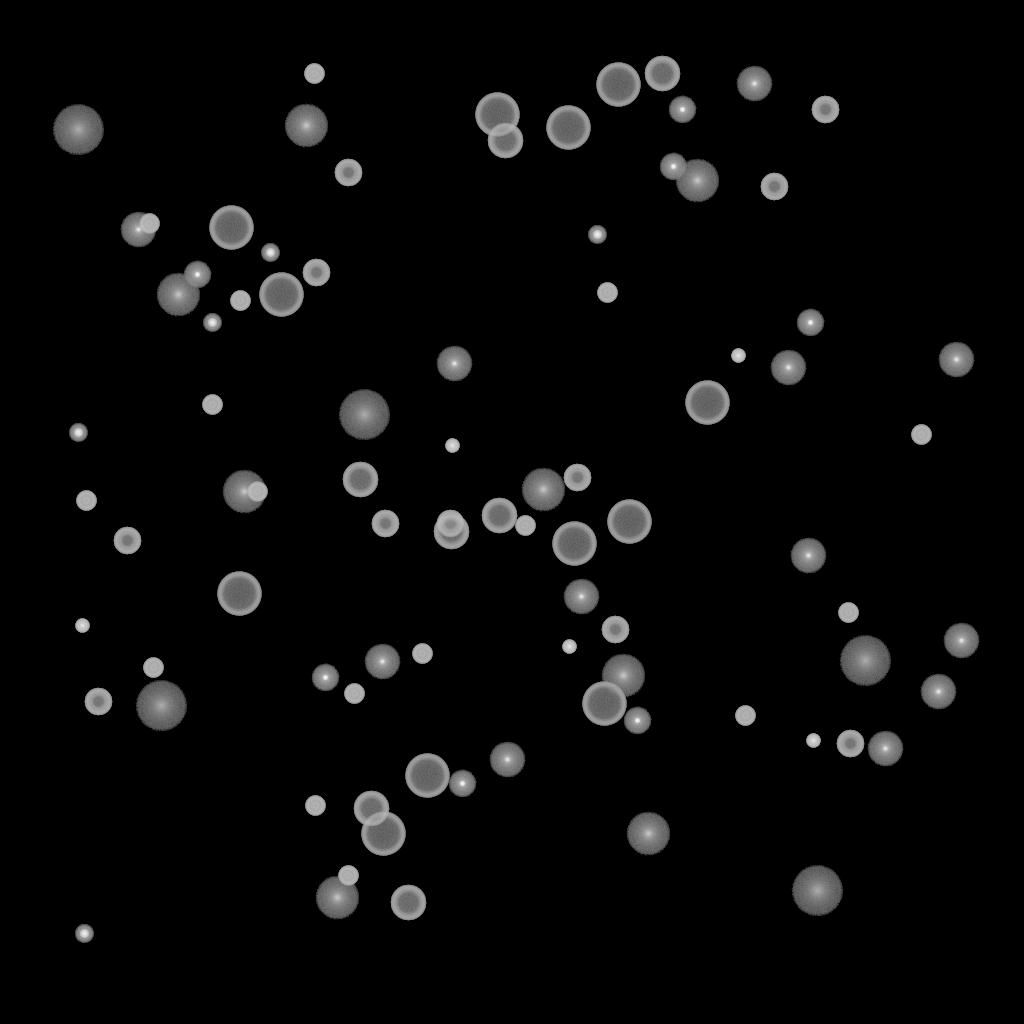depth:-10: (448, 770, 476, 798), (183, 261, 211, 289), (623, 707, 651, 735), (659, 153, 687, 181), (668, 96, 696, 124), (796, 309, 824, 337), (311, 664, 339, 692)
depth:-20: (75, 925, 93, 943), (69, 424, 87, 442), (261, 244, 279, 262), (588, 226, 606, 244), (203, 314, 221, 332)
depth:-30: (75, 619, 89, 633), (562, 640, 576, 654), (445, 439, 459, 453), (806, 734, 820, 748), (731, 349, 745, 363)
depth:-40: (304, 64, 324, 84), (838, 603, 858, 623), (143, 658, 163, 678), (412, 644, 432, 664), (202, 395, 222, 415), (139, 214, 159, 234), (76, 491, 96, 511), (515, 516, 535, 536), (230, 291, 250, 311), (911, 425, 931, 445), (735, 706, 755, 726), (305, 796, 325, 816), (597, 283, 617, 303), (344, 684, 364, 704), (338, 866, 358, 886), (247, 482, 267, 502)
depth:-50: (436, 510, 464, 538), (302, 259, 330, 287), (334, 159, 362, 187), (760, 173, 788, 201), (371, 510, 399, 538), (84, 688, 112, 716), (836, 730, 864, 758), (563, 464, 591, 492), (811, 96, 839, 124), (601, 616, 629, 644), (113, 527, 141, 555)
depth:-60: (353, 791, 389, 827), (390, 885, 426, 921), (481, 498, 517, 534), (342, 462, 378, 498), (433, 514, 469, 550), (644, 56, 680, 92), (487, 123, 523, 159)
depth:-70: (552, 522, 596, 566), (361, 812, 405, 856), (405, 754, 449, 798), (582, 682, 626, 726), (209, 206, 253, 250), (685, 381, 729, 425), (607, 500, 651, 544), (217, 572, 261, 616), (259, 273, 303, 317), (475, 93, 519, 137), (546, 106, 590, 150), (596, 63, 640, 107)
depth:0: (489, 742, 525, 778), (867, 731, 903, 767), (120, 212, 156, 248), (790, 538, 826, 574), (563, 579, 599, 615), (364, 644, 400, 680), (938, 342, 974, 378), (770, 350, 806, 386), (436, 346, 472, 382), (920, 674, 956, 710), (736, 66, 772, 102), (943, 623, 979, 659)
depth:10: (284, 104, 328, 148), (521, 468, 565, 512), (315, 876, 359, 920), (675, 159, 719, 203), (601, 654, 645, 698), (222, 470, 266, 514), (156, 273, 200, 317), (626, 812, 670, 856)
depth:20: (52, 105, 104, 155), (338, 390, 390, 440), (135, 681, 187, 731), (839, 636, 891, 686), (791, 866, 843, 916)
